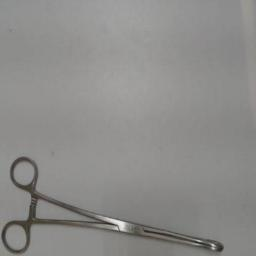Sponge Forceps: (0, 151, 230, 255)
